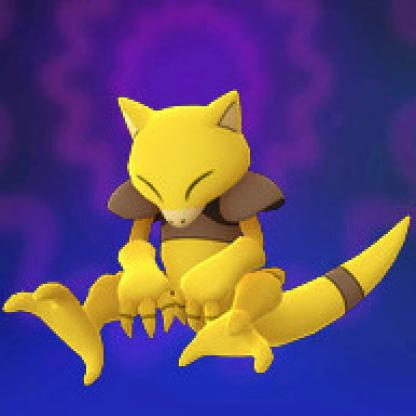Abra: (11, 99, 412, 390)
